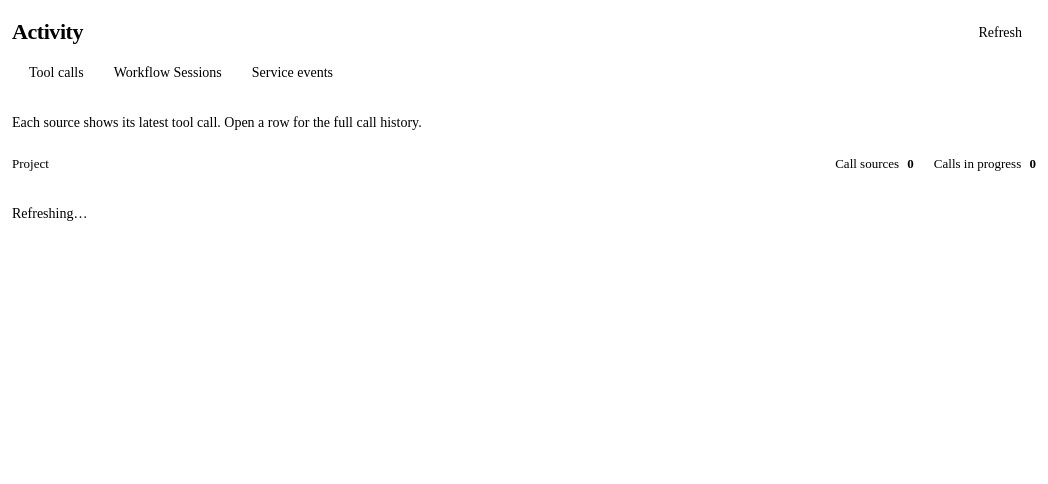
Test: product workspace task flows › does not claim empty history is complete when truncation=true and scan truncation=false
The width and height of the screenshot is (1048, 484).
Click the tab "Workflow Sessions" at (168, 72), box [100,55,236,89]
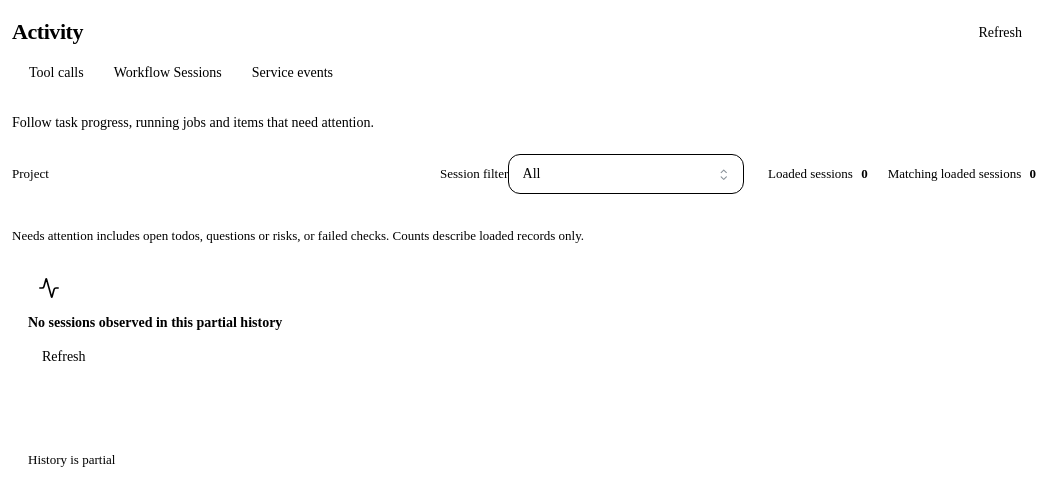
expect the text "History is partial" is shown: met, box [28,452,115,467]
expect the text "No sessions observed in this partial history" is shown: met, box [28,315,282,330]
